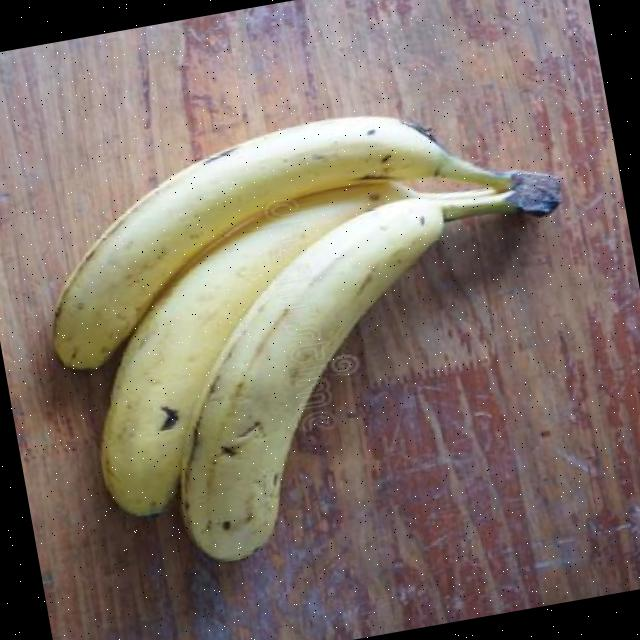banana: (51, 114, 511, 515), (177, 199, 443, 560)
